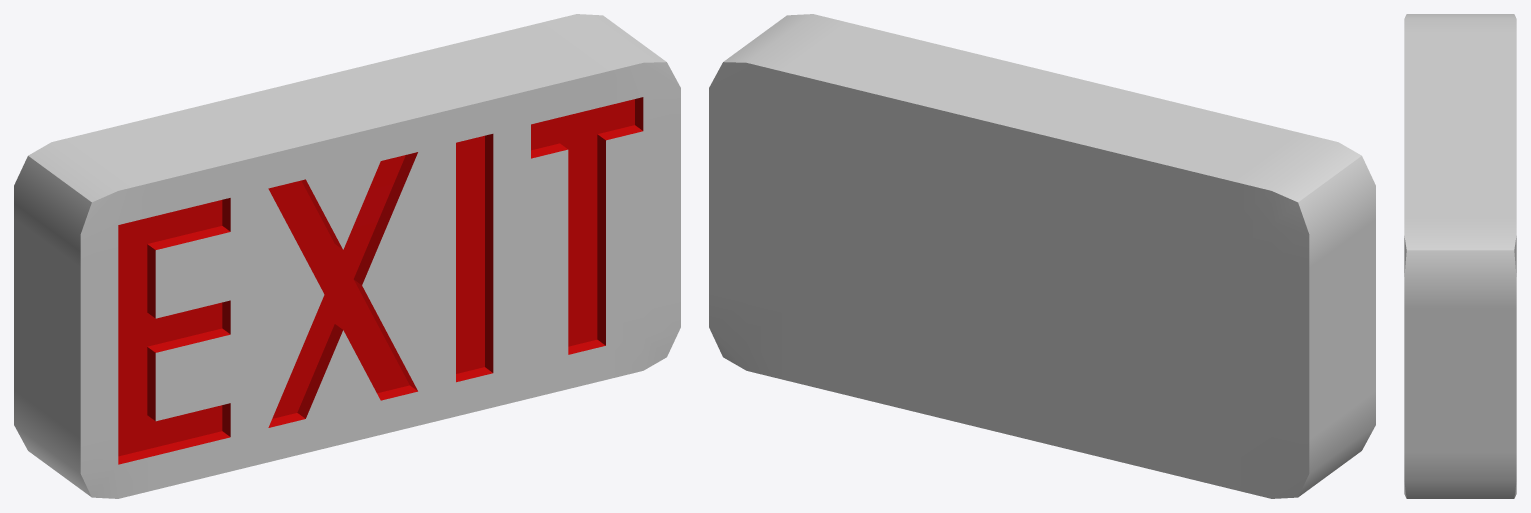
Rendered from Exit Sign.fbx.
3 views of the same model, side by side, from view 1: azimuth 30°, elevation 25°; view 2: azimuth 150°, elevation 25°; view 3: azimuth 270°, elevation 25° (orthographic). The views are drawn at different scales.
Parts seen in each view (by area): view 1: ExitSign; view 2: ExitSign; view 3: ExitSign.
Boxes of the visible parts, x1,y1,x2,y2 form: ExitSign: [14, 14, 680, 498]; ExitSign: [709, 14, 1375, 498]; ExitSign: [1404, 14, 1516, 498].
Size of the model in its own units: 62.98 by 30.89 by 12.12.
